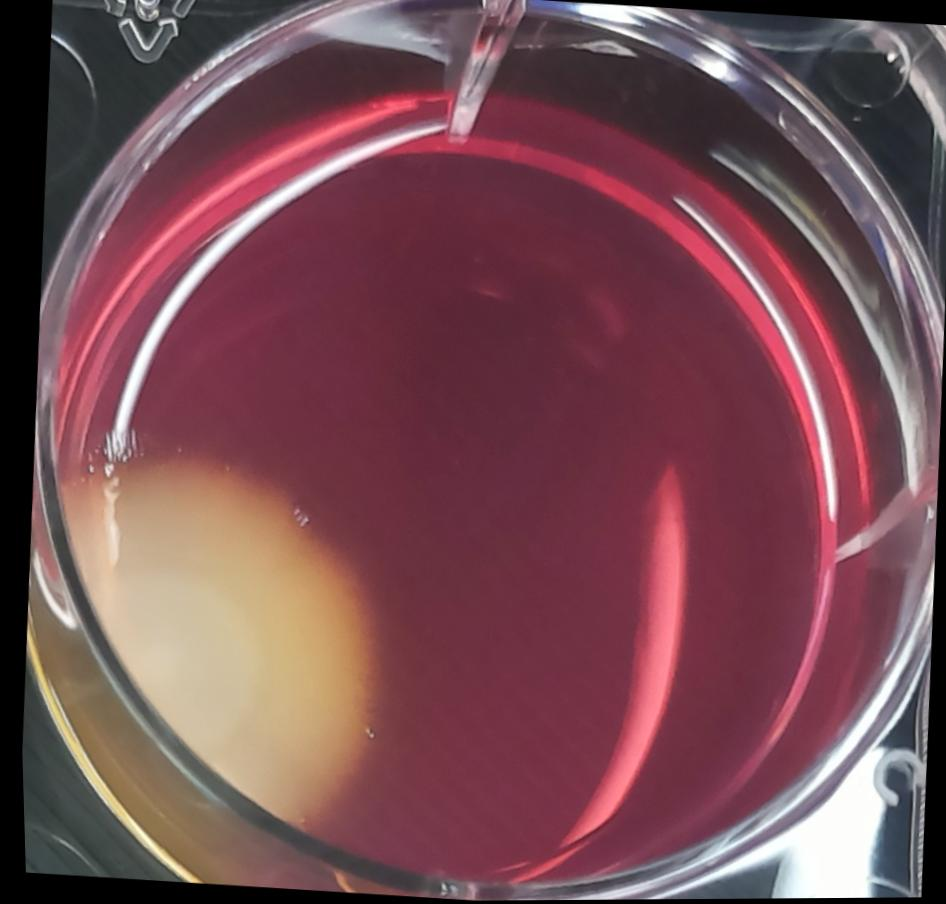vproteolyticus: (10, 416, 506, 894)
